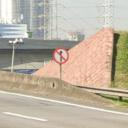NoSeguir: (53, 47, 69, 64)
